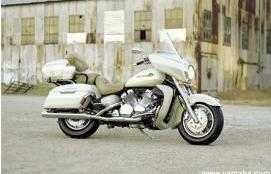motorcycle: (38, 42, 224, 144)
